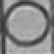no answer: (3, 0, 48, 46)
